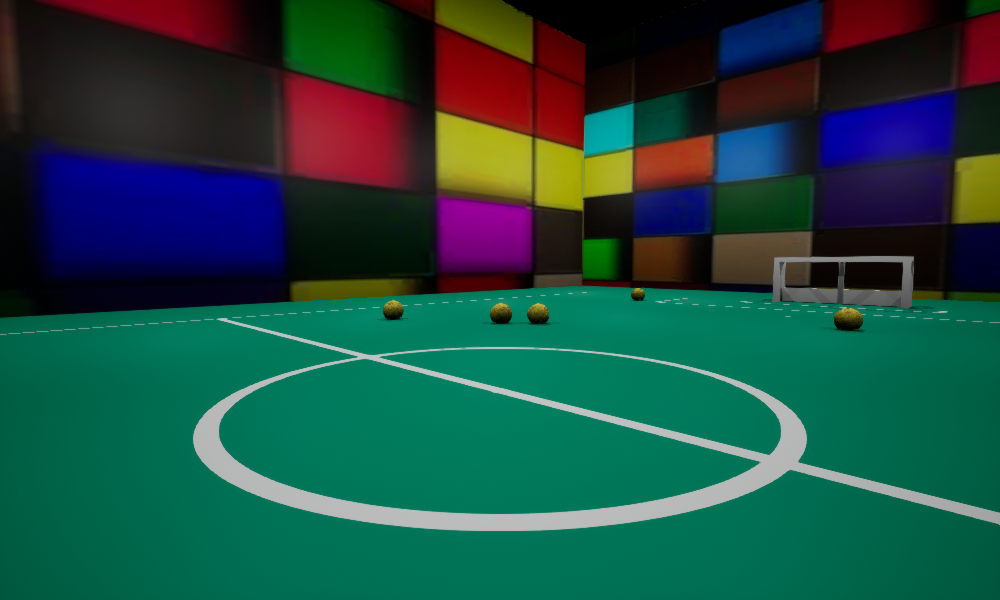b: (834, 308, 862, 330), (527, 303, 548, 323), (490, 303, 511, 323), (383, 300, 403, 318), (631, 288, 644, 299)
g: (772, 256, 913, 308)
